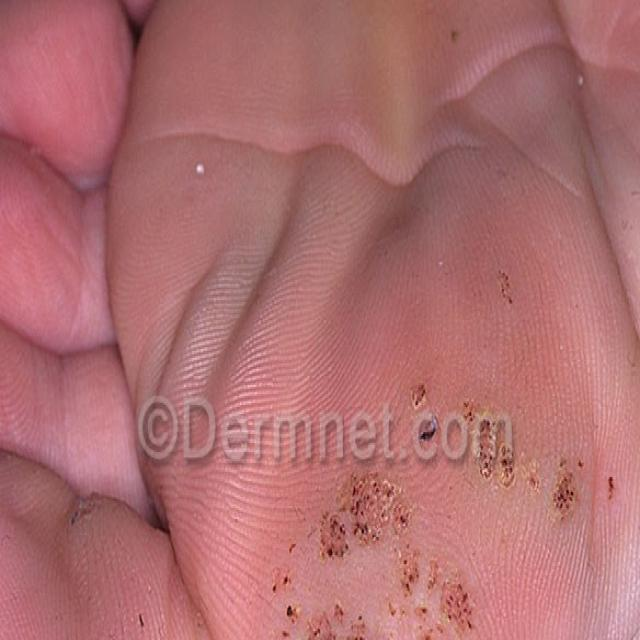Warts: (255, 345, 622, 640)
